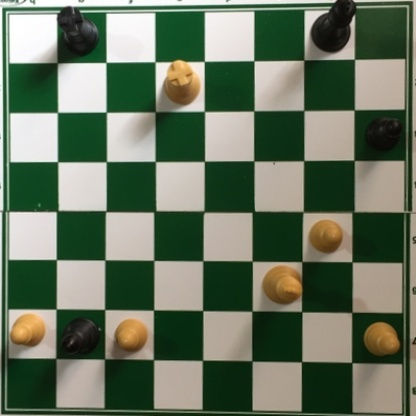black-bishop: (58, 312, 102, 356)
black-king: (310, 1, 358, 55)
black-pawn: (364, 115, 404, 152)
black-rook: (57, 3, 101, 54)
white-king: (260, 263, 305, 306)
white-pawn: (361, 320, 401, 359), (111, 314, 147, 353), (306, 218, 342, 255), (10, 310, 48, 345)
white-rook: (161, 57, 202, 108)
